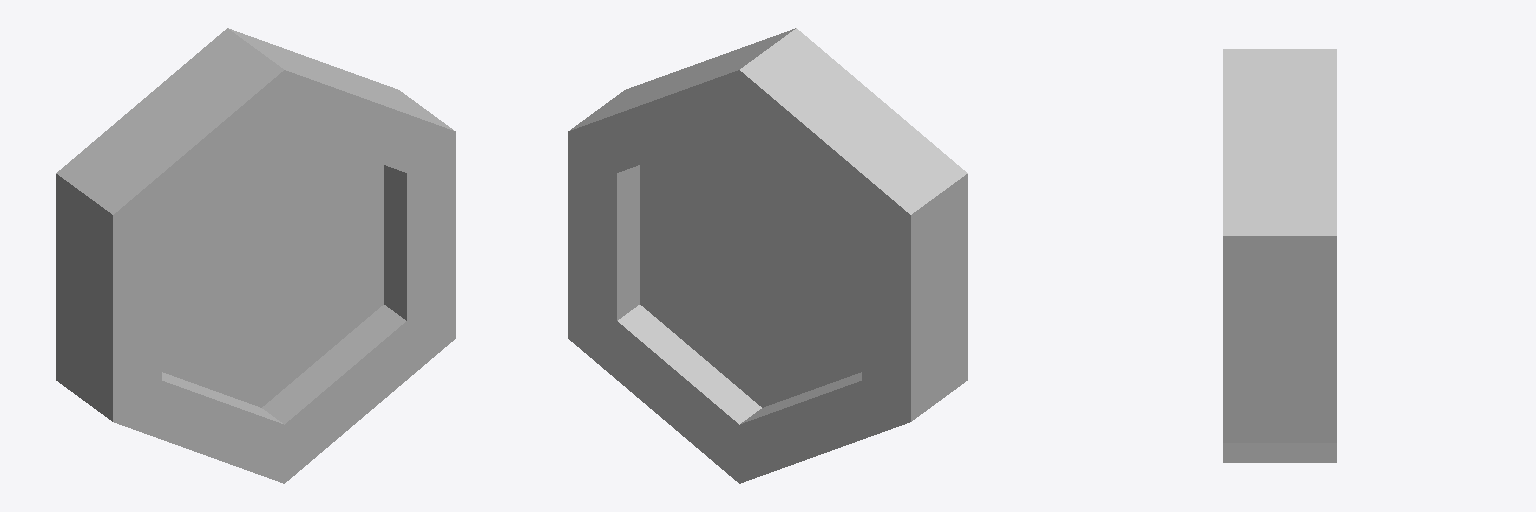
Rendered from coin.obj.
3 views of the same model, side by side, from view 1: azimuth 30°, elevation 25°; view 2: azimuth 150°, elevation 25°; view 3: azimuth 270°, elevation 25° (orthographic).
Parts seen in each view (by area): view 1: mesh_0, mesh_1; view 2: mesh_0, mesh_1; view 3: mesh_0.
Part boxes in pixels (x1,y1,x2,y2): mesh_0: (56,28,455,483); mesh_1: (162,129,383,407); mesh_0: (568,28,967,483); mesh_1: (640,129,861,407); mesh_0: (1223,49,1336,462).
Size of the model in its own units: 1.17 by 1.35 by 0.337.